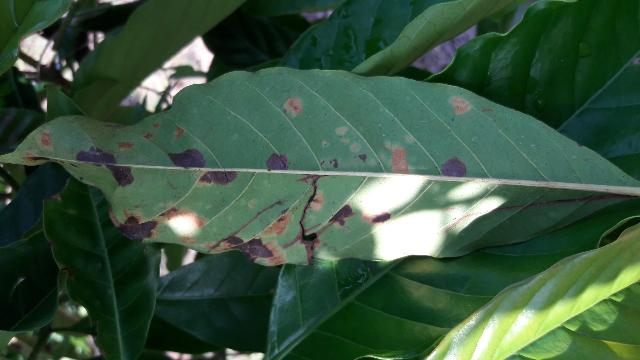rust_level_3: (1, 67, 637, 267)
